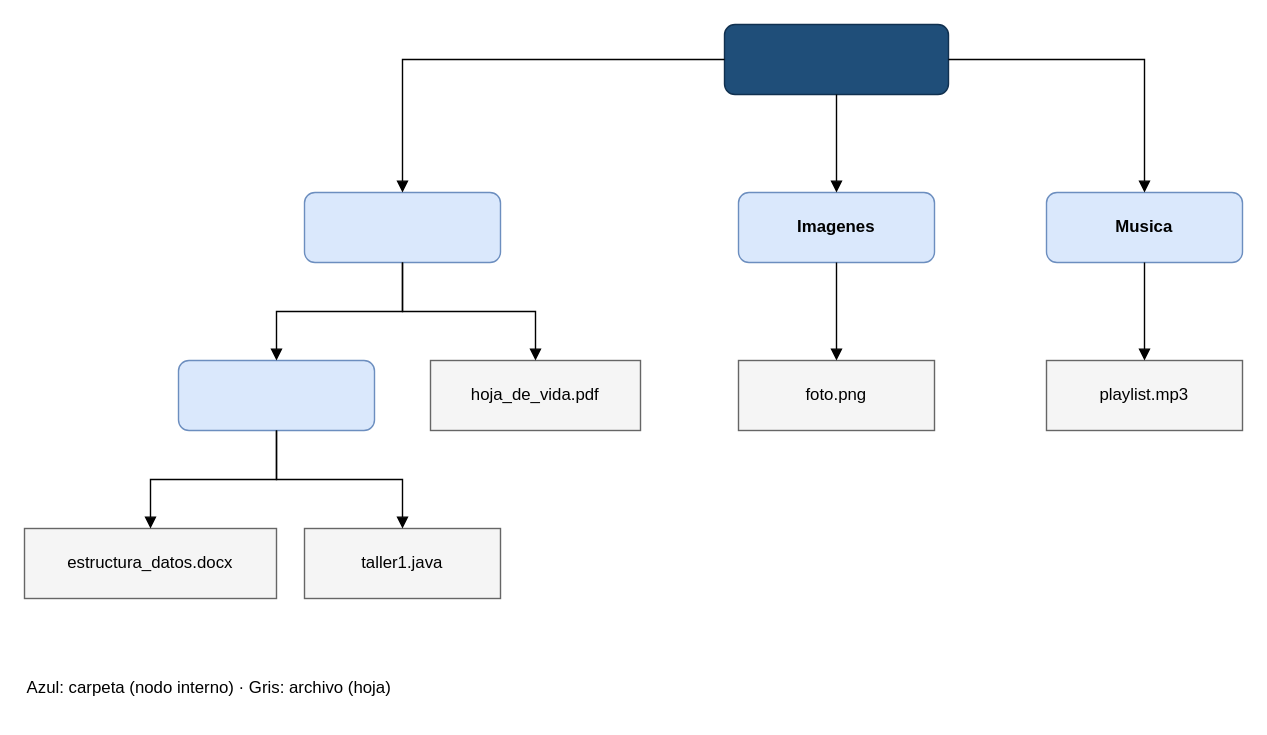
Image size: 1267x735. Some labels were removed from this diagram. The shapes that lost their labels are listed below. From the top down, each one's centre as x and y in pixels, then its label:
At [835,58]: "/ (raíz)".
At [401,226]: "Documentos".
At [275,394]: "Universidad".
